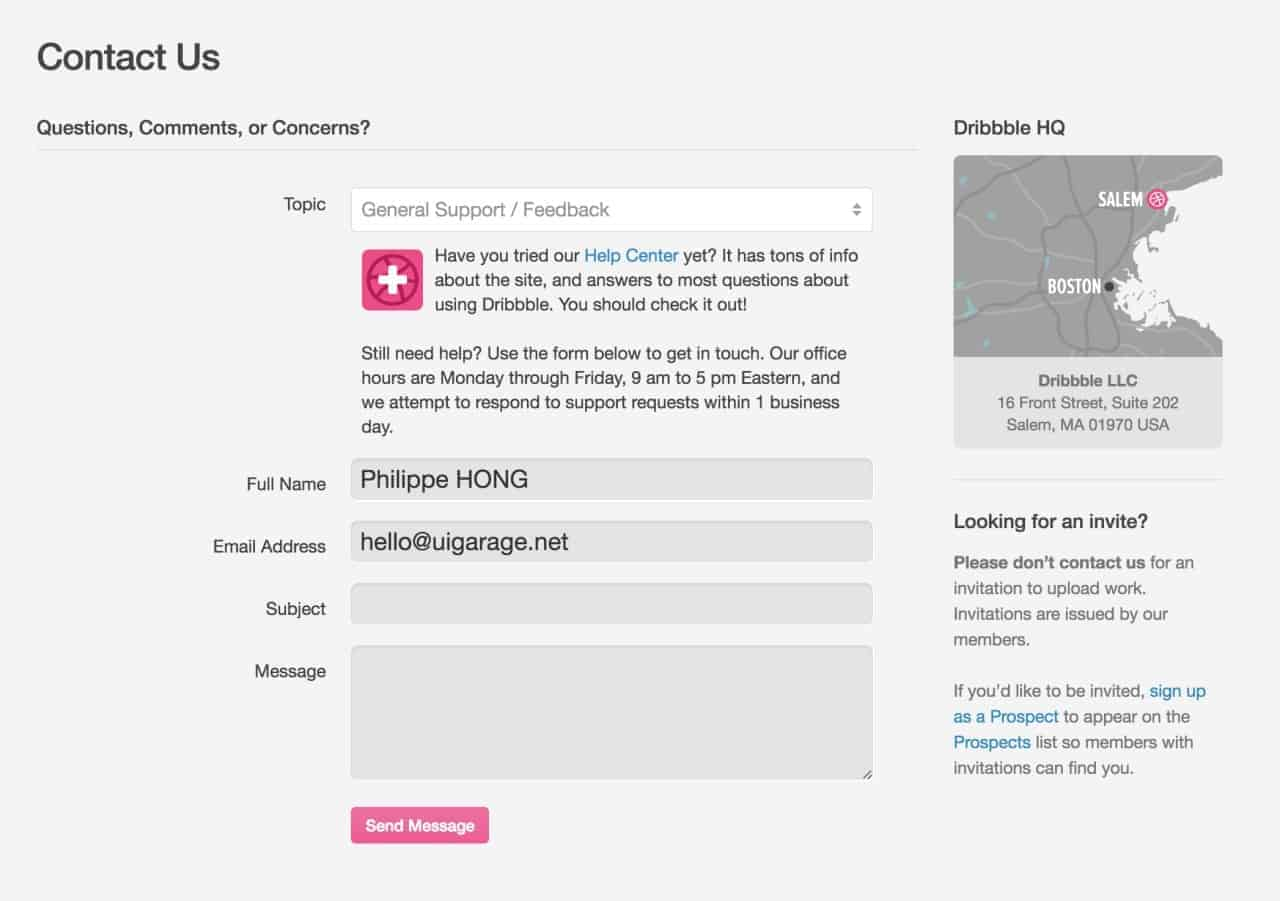_form_: (205, 440, 884, 854), (205, 158, 883, 568)
button: (349, 806, 489, 845)
field: (347, 644, 873, 780), (348, 455, 875, 503), (346, 579, 871, 626), (346, 519, 874, 563)
field_with_label: (256, 642, 876, 782), (284, 180, 878, 237), (213, 516, 877, 565), (245, 454, 878, 505), (266, 576, 876, 628)
select: (349, 185, 873, 233)
